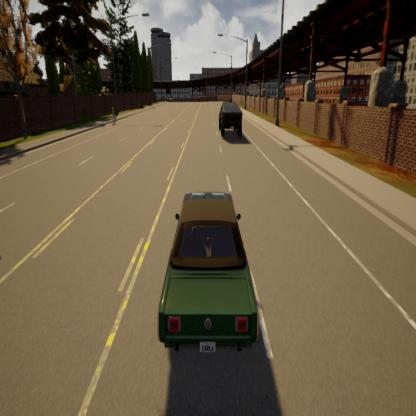Cars: (158, 185, 262, 355), (214, 93, 249, 146)
